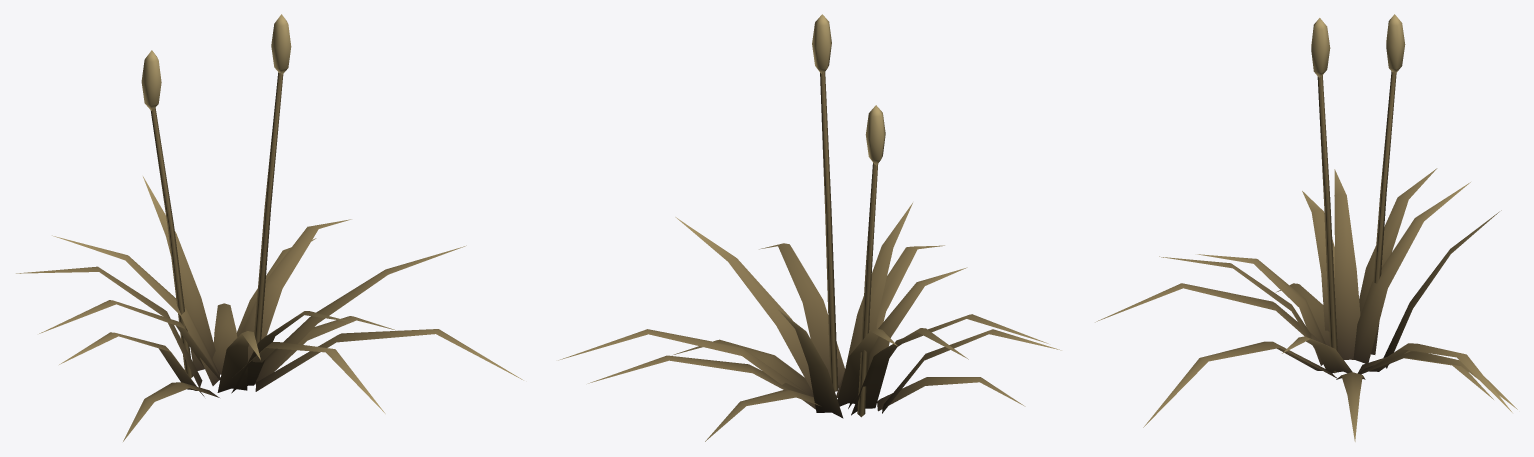
The model's file is dead_grass.glb.
3 renders of one model, left to right at view 1: azimuth 30°, elevation 25°; view 2: azimuth 150°, elevation 25°; view 3: azimuth 270°, elevation 25°, orthographic.
Parts seen in each view (by area): view 1: dead_grass; view 2: dead_grass; view 3: dead_grass.
Boxes of the visible parts, box(x1,y1,x2,y2) form: dead_grass: box(16, 14, 523, 441); dead_grass: box(558, 14, 1061, 441); dead_grass: box(1095, 14, 1517, 441).
Bounding box in the file's own units: 0.6209 × 0.5435 × 0.57.
